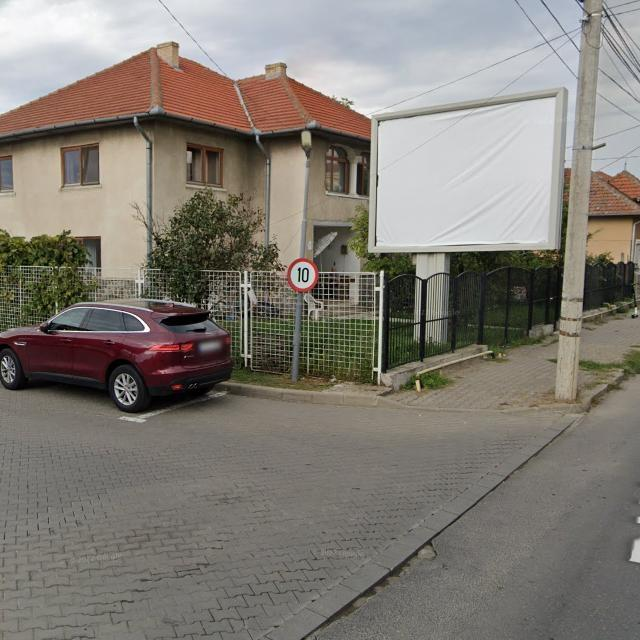forb_speed_over_10: (287, 258, 318, 292)
